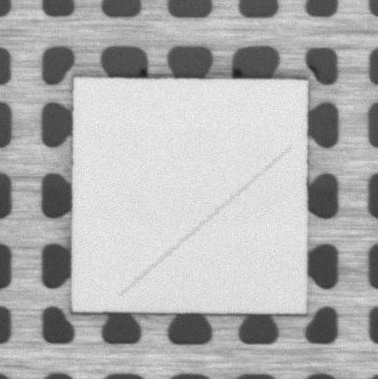DIE_CRACK: (120, 148, 289, 296)
